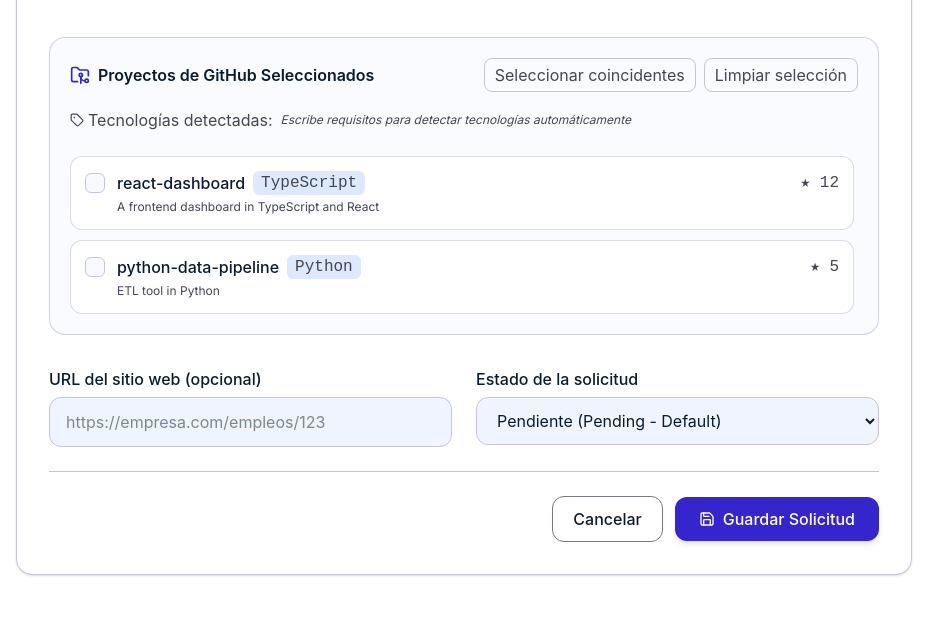
Test: JobApplicationFormView › validates required fields before submitting
This screenshot has width=929, height=623.
(page scrolled)
Click the button "Guardar Solicitud" at (777, 519), box [675,497,879,541]
(page scrolled)
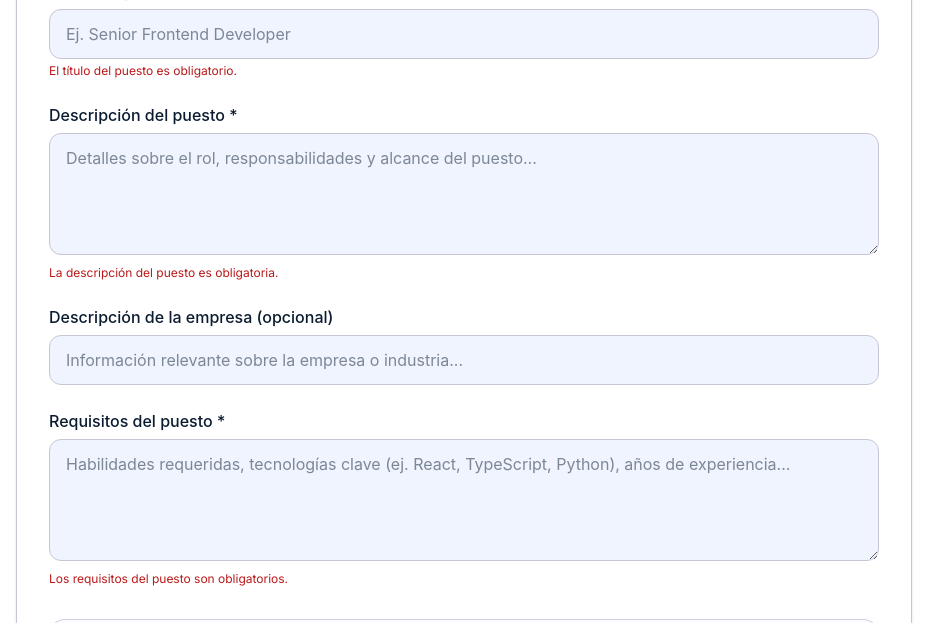
Now the text "El título del puesto es obligatorio." is shown, box [49,63,237,78]
